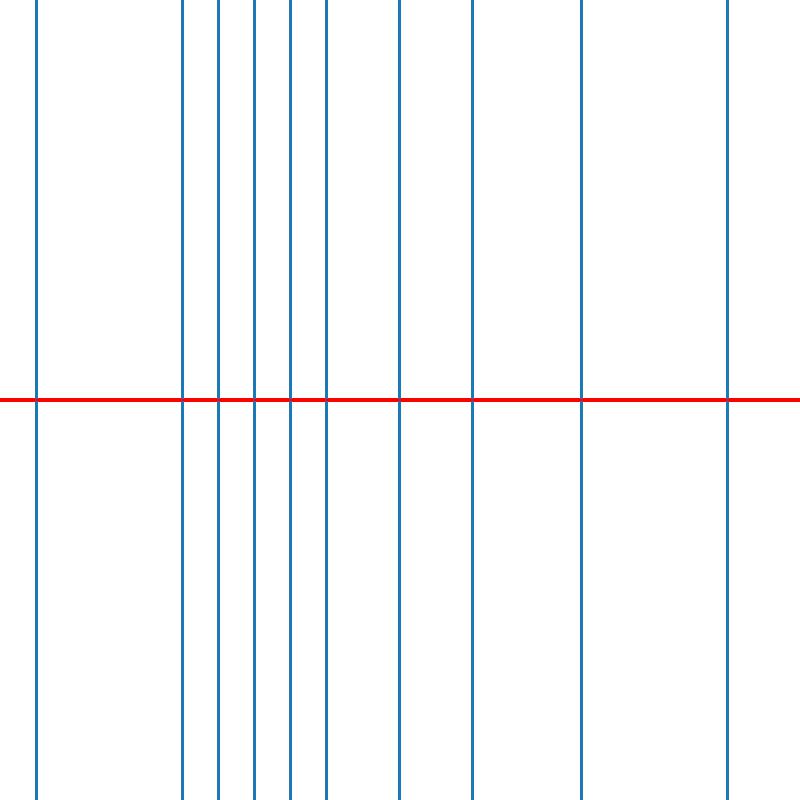root: (250, 396, 258, 404), (32, 396, 40, 404), (396, 396, 403, 404), (723, 396, 730, 404), (214, 396, 221, 404), (578, 396, 585, 404), (287, 396, 294, 404), (469, 396, 476, 404), (323, 396, 330, 404), (178, 396, 185, 404)
